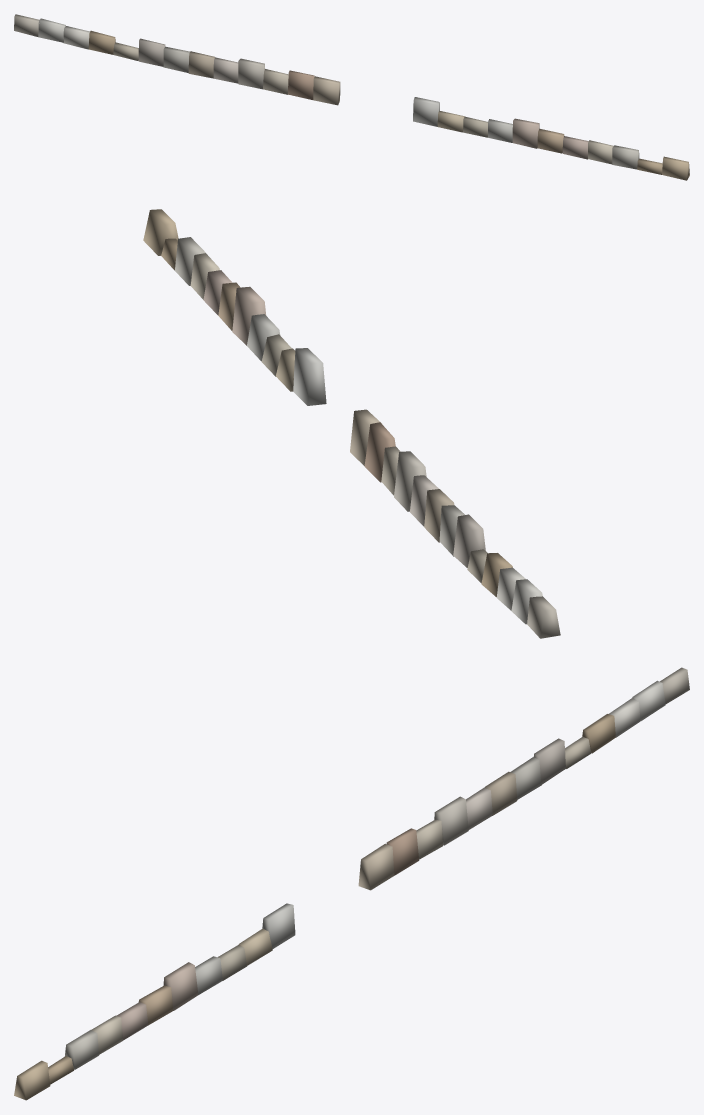
File: farm_1_1_far.glb
The picture shows the model from 3 angles, top to bottom: view 1: azimuth 30°, elevation 25°; view 2: azimuth 150°, elevation 25°; view 3: azimuth 270°, elevation 25°; orthographic projection. The views are drawn at different scales.
Visible parts, largest first — view 1: geometry_0; view 2: geometry_0; view 3: geometry_0.
Boxes of the visible parts, <box> form: geometry_0: <box>14,14,689,180</box>; geometry_0: <box>143,209,560,638</box>; geometry_0: <box>14,667,689,1100</box>.
Bounding box in the file's own units: 30.82 × 6.33 × 29.2.
